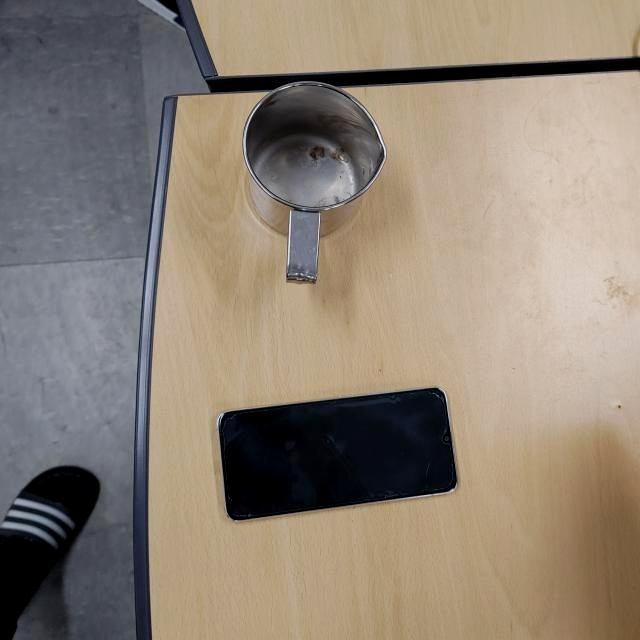cup: (241, 79, 386, 286)
phone: (217, 385, 459, 526)
